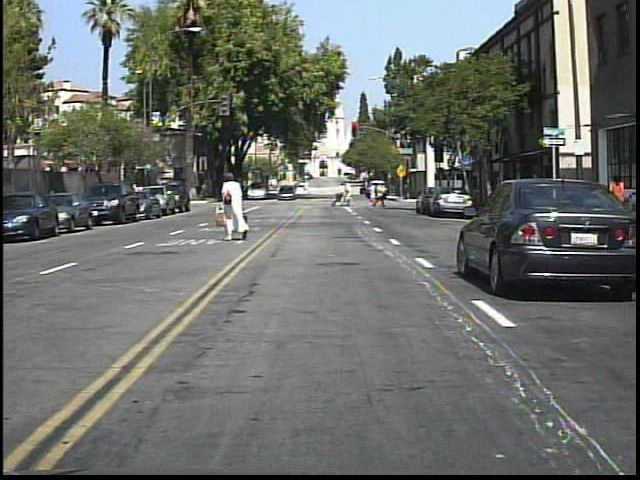person: (215, 169, 256, 247), (608, 167, 629, 230), (502, 168, 522, 219), (373, 179, 388, 210), (343, 180, 356, 210)
